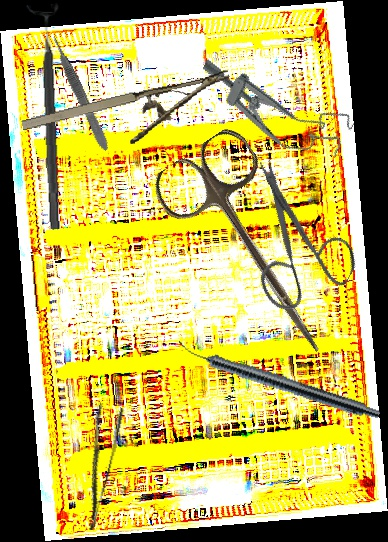Dressing Forceps: (67, 401, 127, 532)
Fixation Ring: (25, 3, 72, 230)
Handpiece: (174, 338, 383, 423)
Iris Scissors: (146, 122, 366, 378), (201, 153, 382, 332)
Needle Holder: (19, 69, 240, 166)
Speculum: (187, 47, 357, 172)
Tissue Forceps: (48, 33, 112, 153)
